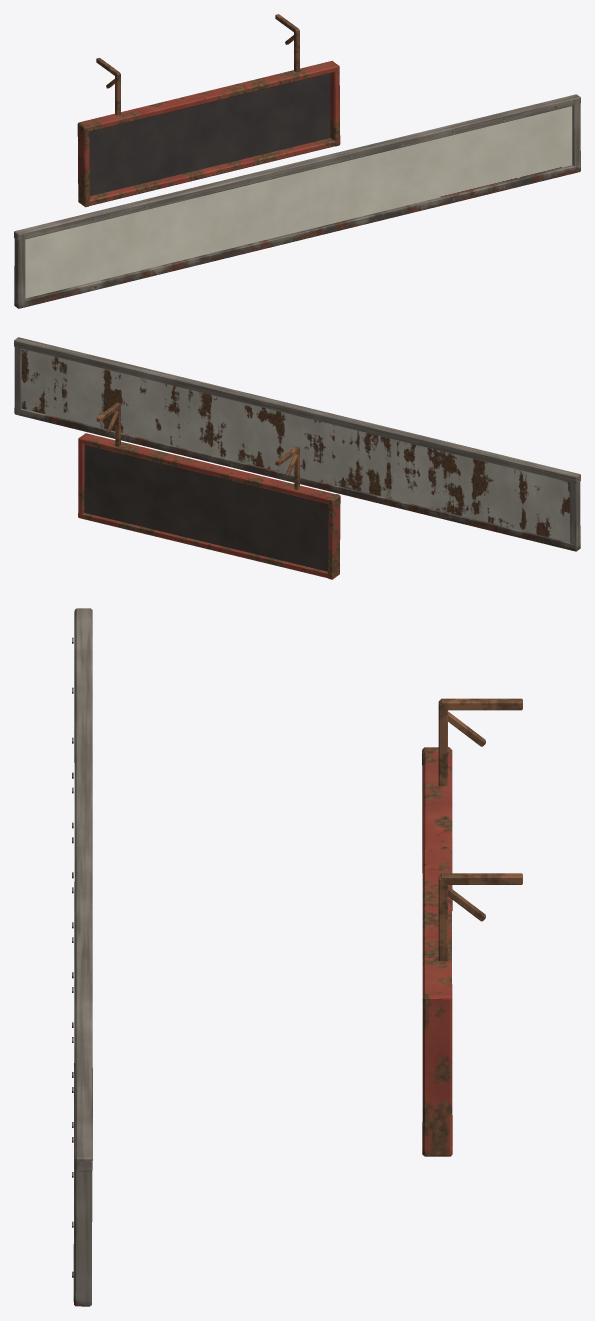
The model's file is ShackSigns.fbx.
The picture shows the model from 3 angles, top to bottom: view 1: azimuth 30°, elevation 25°; view 2: azimuth 150°, elevation 25°; view 3: azimuth 270°, elevation 25°; orthographic projection. The views are drawn at different scales.
Parts seen in each view (by area): view 1: MainSignBoard, NeonSignFrame; view 2: MainSignBoard, NeonSignFrame; view 3: NeonSignFrame, MainSignBoard.
Part boxes in pixels (x1,y1,x2,y2): MainSignBoard: (14, 94, 580, 308); NeonSignFrame: (77, 14, 340, 207); MainSignBoard: (14, 337, 580, 551); NeonSignFrame: (78, 402, 340, 579); NeonSignFrame: (422, 698, 522, 1156); MainSignBoard: (72, 608, 92, 1306).
Size of the model in its own units: 617 by 128 by 214.
3 materials, 3 textured.
